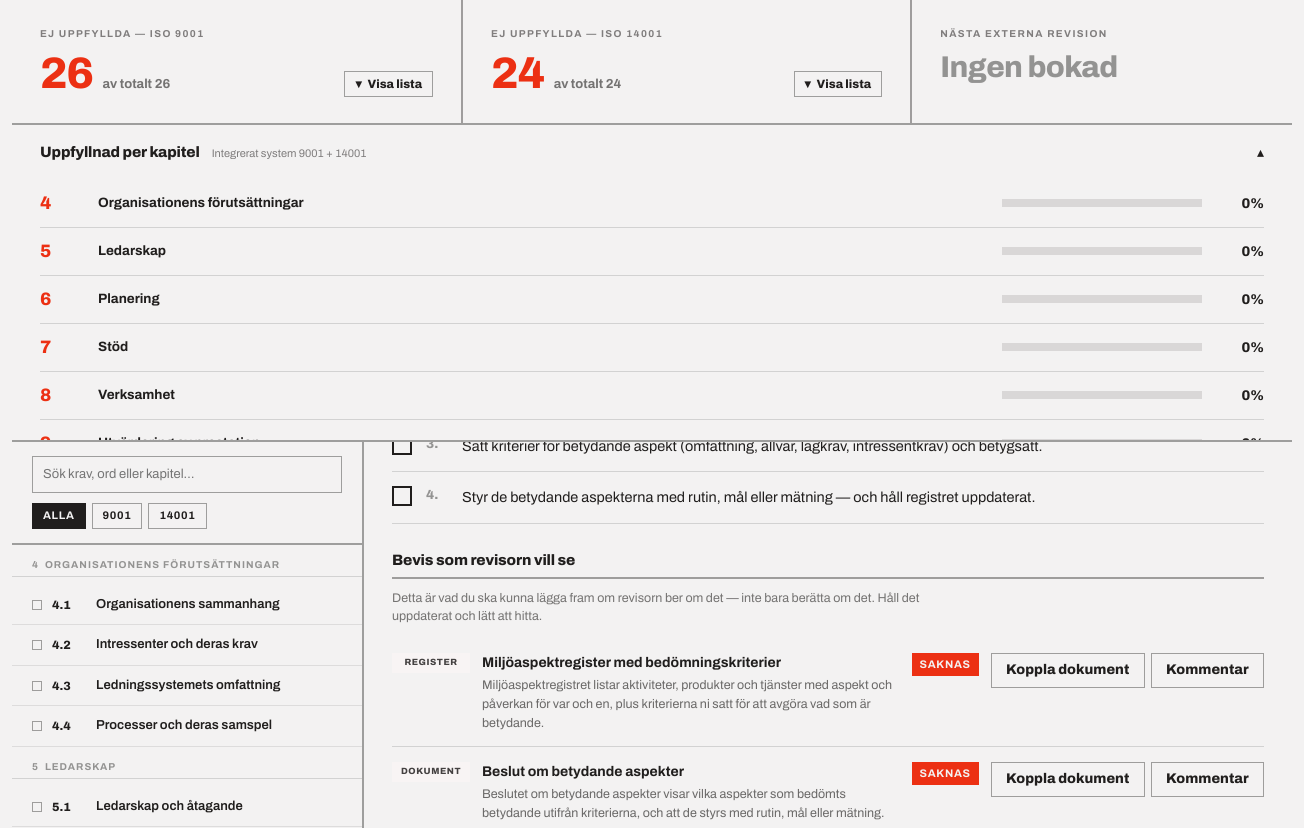
linking evidence to documents › flips an evidence item from Saknas to Finns once a document is linked
(page scrolled)
Expected: the 1st text "Saknas" is shown, [912,653,979,676]
Click the 1st button "Koppla dokument": (1068, 670) [991,653,1145,688]
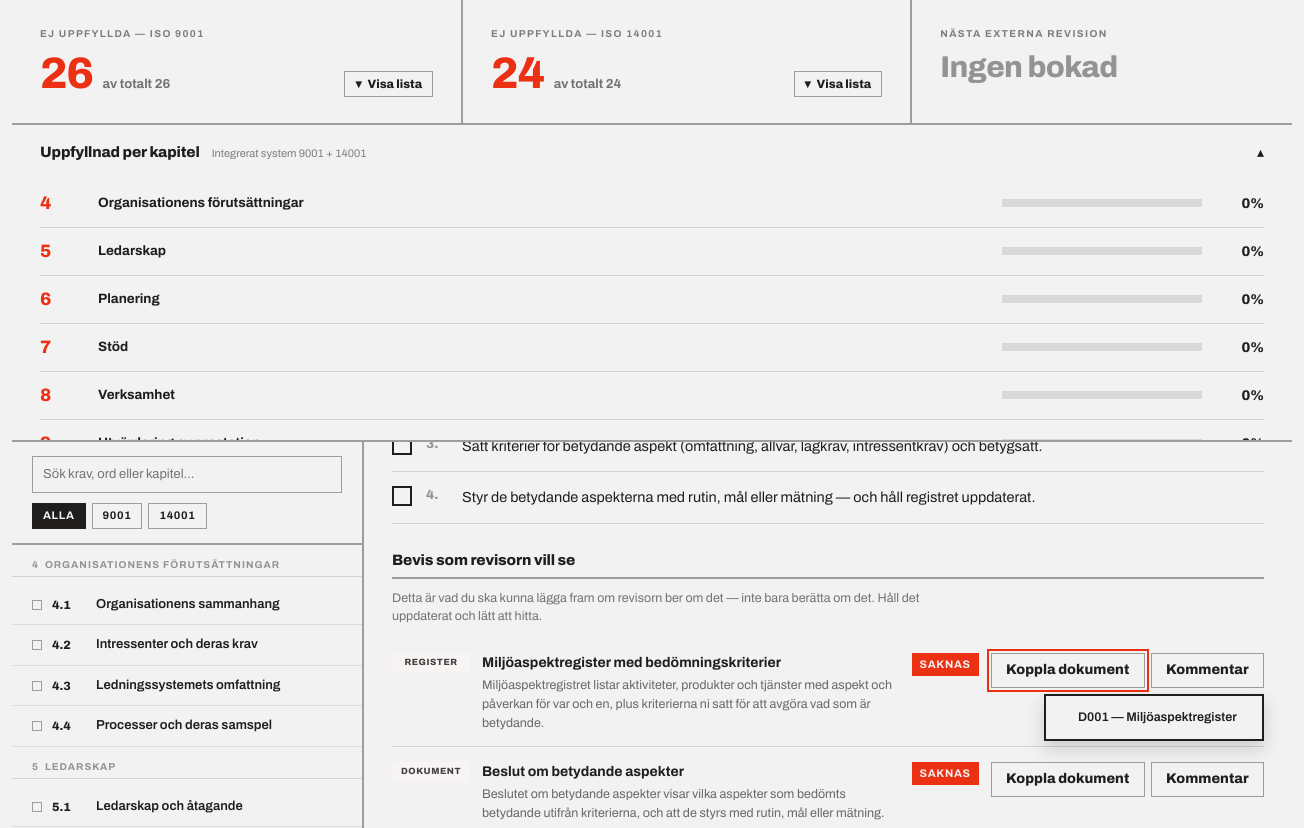
Click the menu item "D001 — Miljöaspektregister": (1154, 717) [1050,700,1258,735]
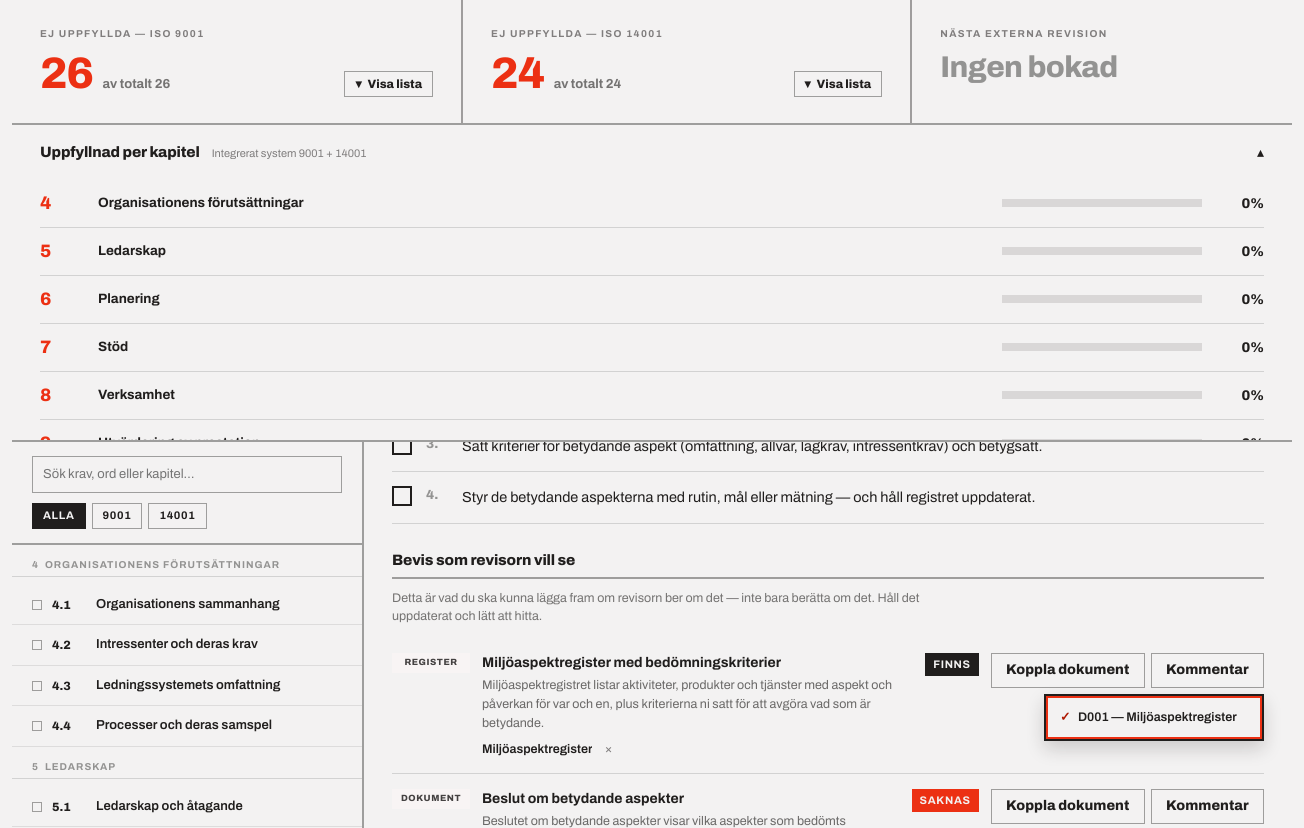
Expected: the text "Miljöaspektregister" is shown, [482,740,592,759]
Expected: the text "Finns" is shown, [925,653,979,676]
